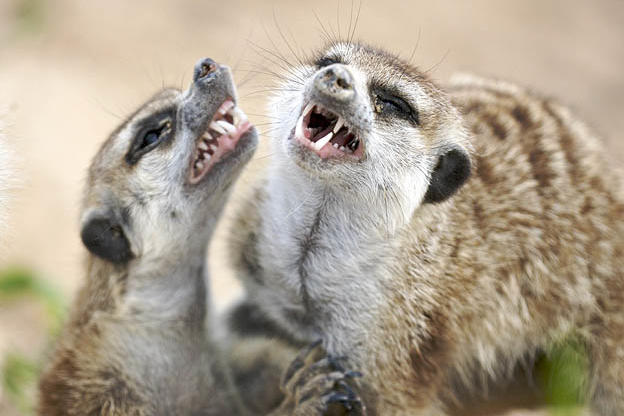meerkat: (254, 26, 606, 416)
